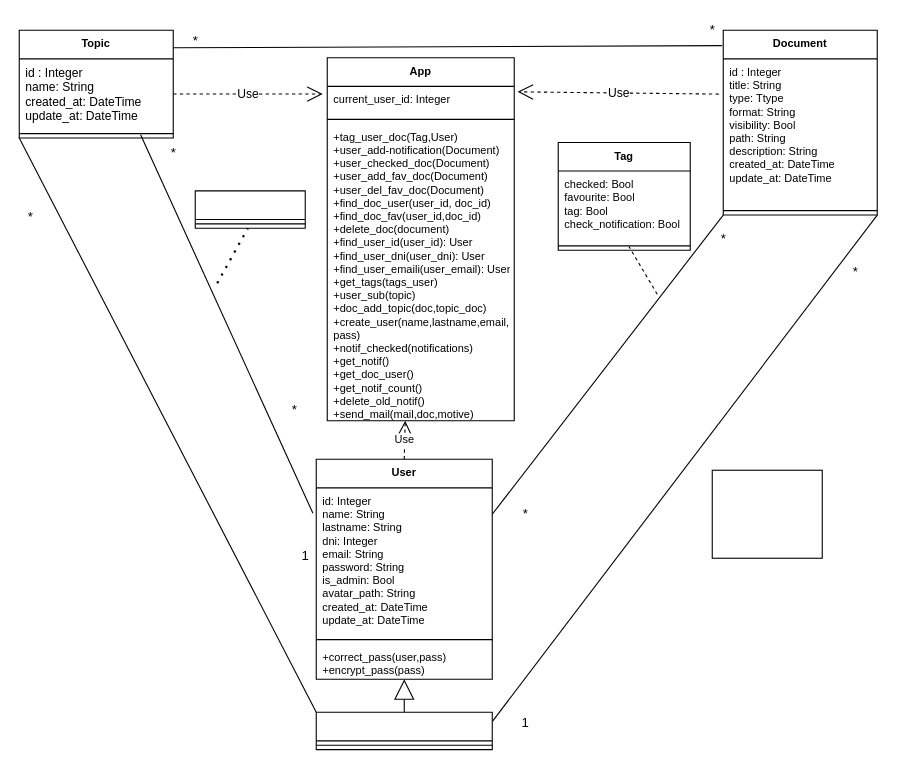
Image size: 898x769. Some labels were removed from this diagram. The shapes that lost their labels are listed below. From the top down, each one's centre as x and y in pixels, then its label:
At point 249,209: "Subscription".
At point 766,513: "<<enumeration>> TDoc Act Result".
At point 403,730: "Admin".
